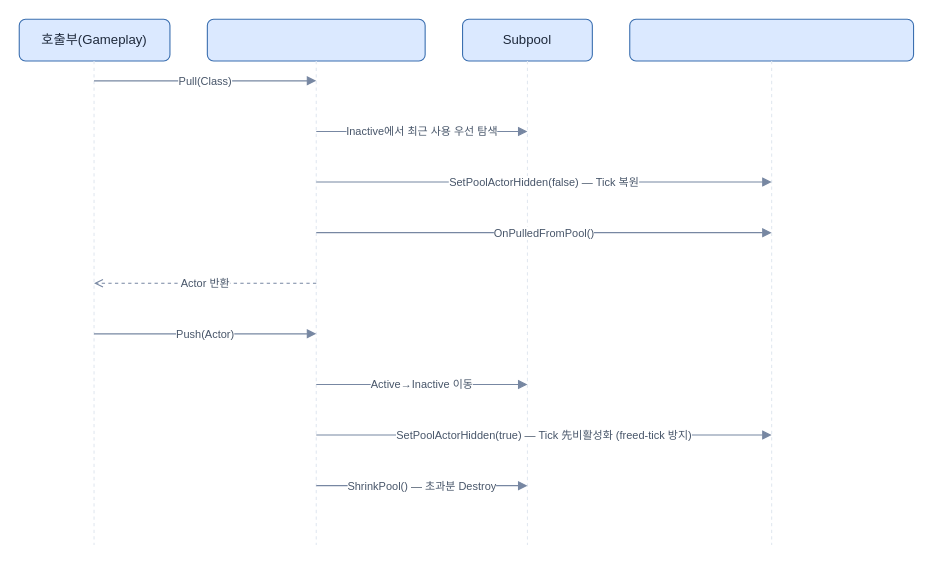
The diagram is 933 pixels wide and 565 high, and some of its shapes have lost their labels. Here are the shapes that lost their labels. From the top down, the box of each, then its label:
(206, 18, 425, 61): UObjectPoolSubsystem
(629, 18, 914, 61): 풀 Actor(IObjectPooledActor)
